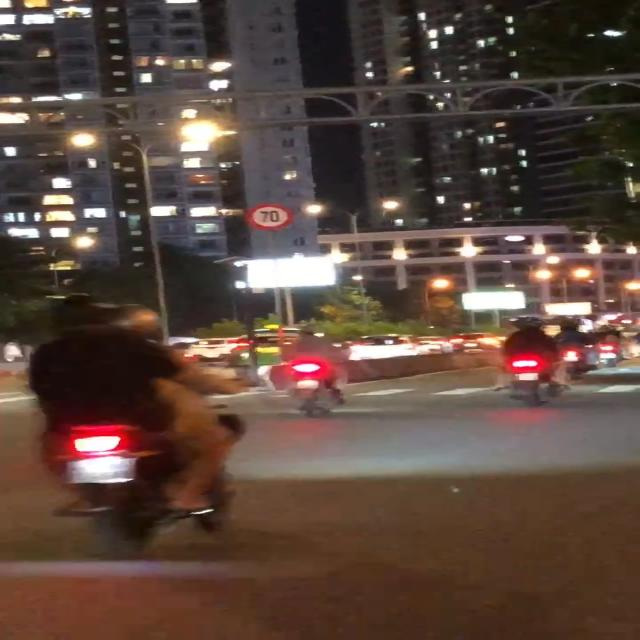Bien bao toc do toi da cho phep: (244, 202, 295, 231)
